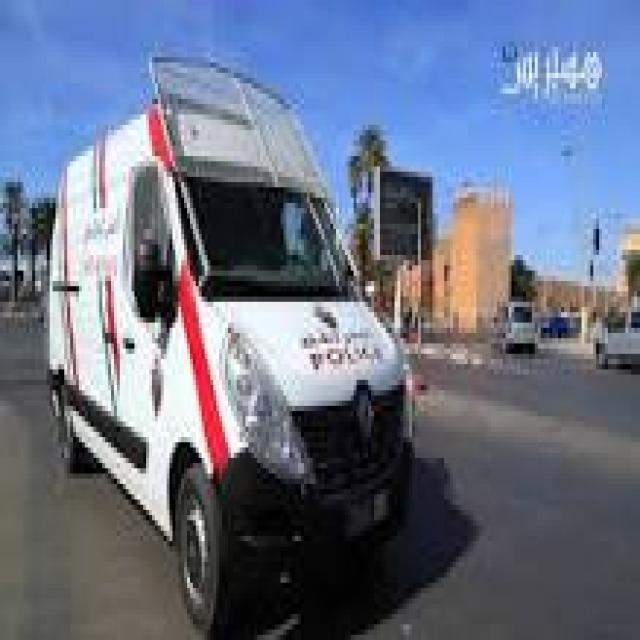police: (41, 74, 418, 629)
